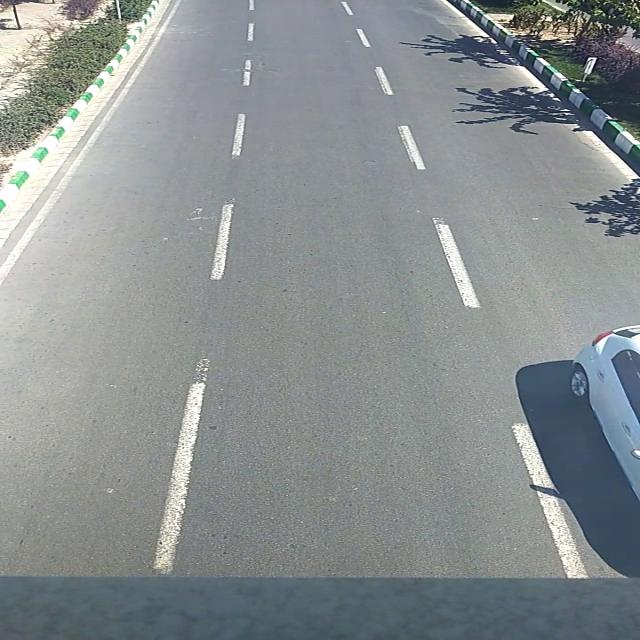car: (570, 323, 640, 498)
